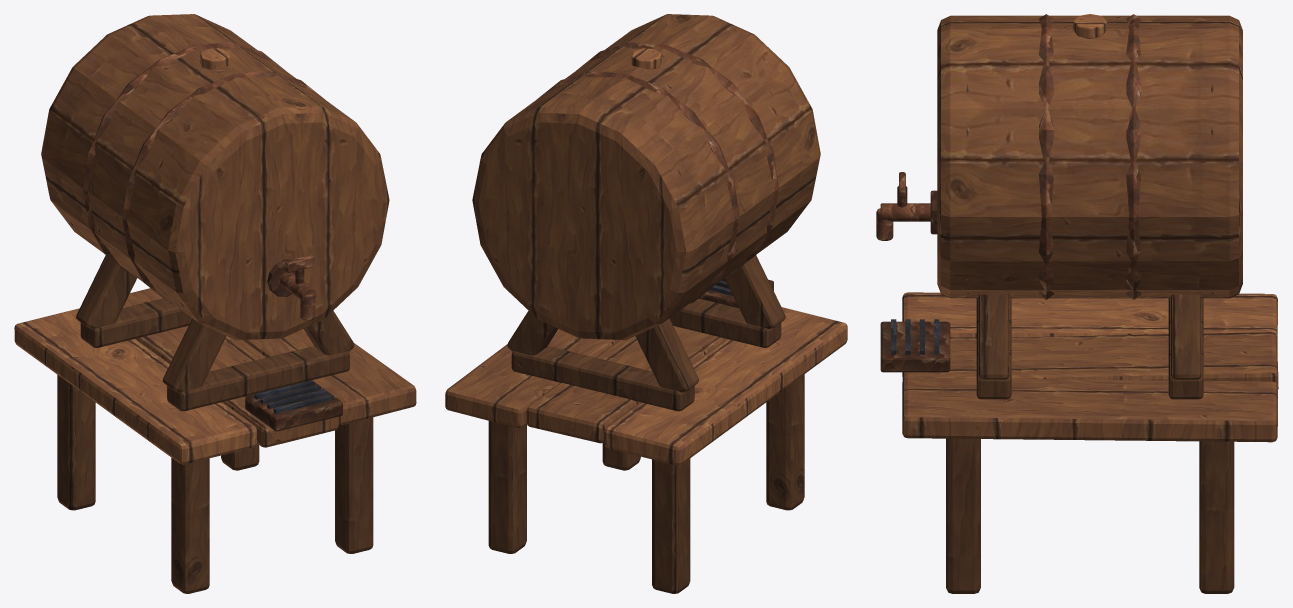
The model's file is tap_keg_stand.glb.
The picture shows the model from 3 angles, left to right: view 1: azimuth 30°, elevation 25°; view 2: azimuth 150°, elevation 25°; view 3: azimuth 270°, elevation 25°; orthographic projection. The views are drawn at different scales.
Parts seen in each view (by area): view 1: model; view 2: model; view 3: model.
Boxes of the visible parts, bbox=[...] form: model: bbox=[14, 14, 416, 593]; model: bbox=[445, 14, 847, 593]; model: bbox=[876, 14, 1278, 593].
Size of the model in its own units: 0.6961 by 1.32 by 0.9209.
Materials: 7 (7 with a texture image).
